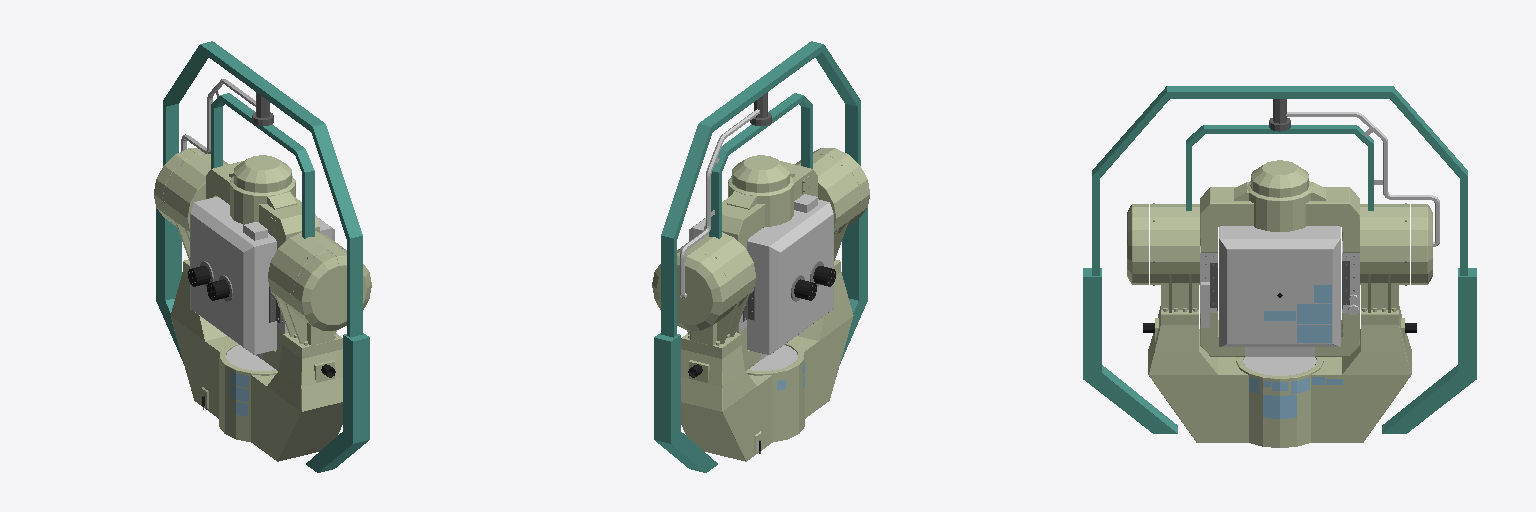
File: 19SZSLZT.obj
3 views of the same model, side by side, from view 1: azimuth 30°, elevation 25°; view 2: azimuth 150°, elevation 25°; view 3: azimuth 270°, elevation 25° (orthographic).
Visible parts, largest first — view 1: Metal_02_02, Metal_Blue_02, Metal_01_01, Metal_02_01, Metal_Blue_01, Metal_05, Metal_01_02, Metal_04, Metal_01_03, Tex_02; view 2: Metal_02_02, Metal_Blue_02, Metal_01_01, Metal_02_01, Metal_Blue_01, Metal_01_02, Metal_05, Metal_04, Metal_01_03; view 3: Metal_02_02, Metal_Blue_02, Metal_01_01, Metal_02_01, Metal_Blue_01, Tex_01, Tex_02, Metal_01_02, Metal_04, Metal_01_03.
Boxes of the visible parts, box(x1,y1,x2,y2) form: Metal_02_02: box(154, 148, 371, 461); Metal_Blue_02: box(156, 41, 369, 472); Metal_01_01: box(190, 197, 334, 359); Metal_02_01: box(206, 155, 319, 370); Metal_Blue_01: box(211, 93, 314, 238); Metal_05: box(188, 266, 335, 406); Metal_01_02: box(181, 79, 255, 405); Metal_04: box(189, 92, 280, 409); Metal_01_03: box(226, 345, 275, 370); Tex_02: box(231, 371, 248, 416); Metal_02_02: box(652, 148, 869, 461); Metal_Blue_02: box(654, 41, 867, 472); Metal_01_01: box(689, 194, 833, 359); Metal_02_01: box(704, 155, 817, 370); Metal_Blue_01: box(709, 93, 812, 238); Metal_01_02: box(680, 109, 759, 450); Metal_05: box(688, 266, 835, 450); Metal_04: box(743, 92, 834, 453); Metal_01_03: box(748, 345, 797, 370); Metal_02_02: box(1127, 204, 1432, 447); Metal_Blue_02: box(1083, 86, 1476, 433); Metal_01_01: box(1200, 226, 1359, 356); Metal_02_01: box(1200, 160, 1359, 356); Metal_Blue_01: box(1186, 125, 1373, 210); Tex_01: box(1264, 285, 1331, 342); Tex_02: box(1249, 377, 1342, 418); Metal_01_02: box(1286, 112, 1439, 246); Metal_04: box(1210, 99, 1349, 310); Metal_01_03: box(1243, 357, 1316, 375).
Bounding box in the file's own units: 67.88 × 203 × 213.